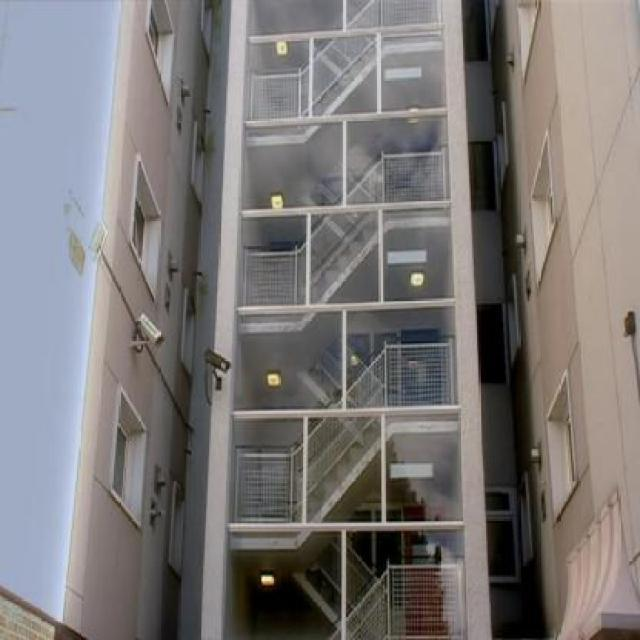stair: (237, 338, 431, 551)
